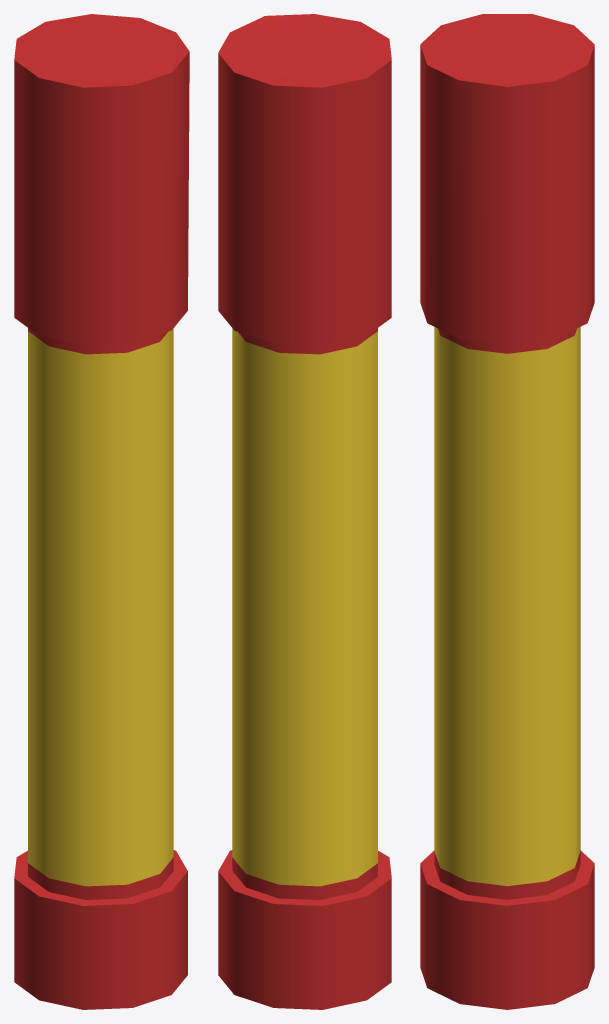
Rendered from Flare.FBX.
3 views of the same model, side by side, from view 1: azimuth 30°, elevation 25°; view 2: azimuth 150°, elevation 25°; view 3: azimuth 270°, elevation 25° (orthographic).
Visible parts, largest first — view 1: Flare; view 2: Flare; view 3: Flare.
Boxes of the visible parts, left/top/right/bottom form: Flare: left=14, top=14, right=189, bottom=1009; Flare: left=218, top=14, right=391, bottom=1009; Flare: left=420, top=14, right=594, bottom=1009.
Size of the model in its own units: 1.57 by 9.29 by 1.59.
